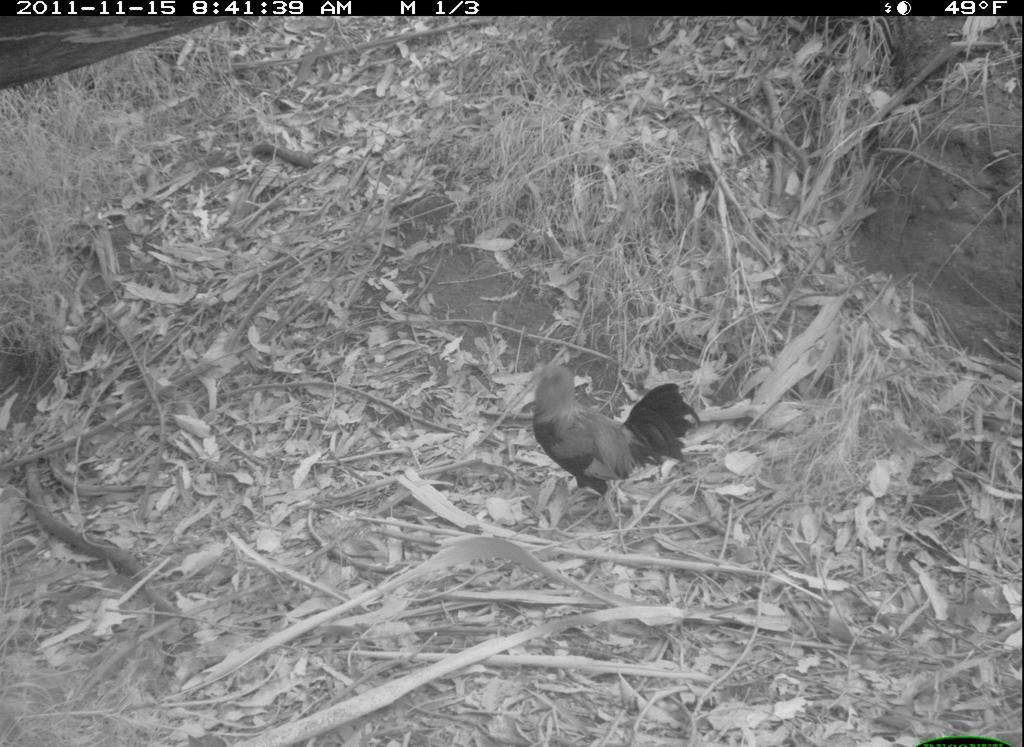bird: (527, 354, 697, 514)
